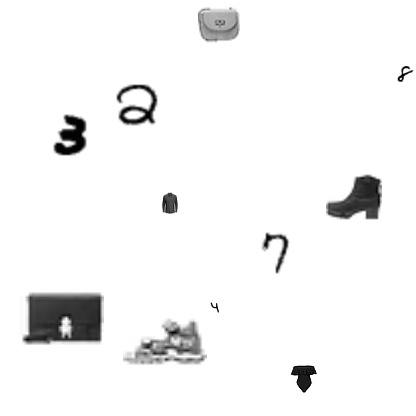2: (109, 77, 165, 133)
3: (44, 107, 100, 163)
4: (208, 300, 222, 314)
7: (248, 219, 304, 275)
8: (393, 62, 415, 84)
Ankle_boot: (326, 169, 382, 225)
Bag: (20, 275, 104, 359), (198, 3, 240, 45)
Sandal: (123, 298, 207, 382)
Shirt: (159, 192, 181, 214)
T-shirt/top: (289, 365, 317, 393)
